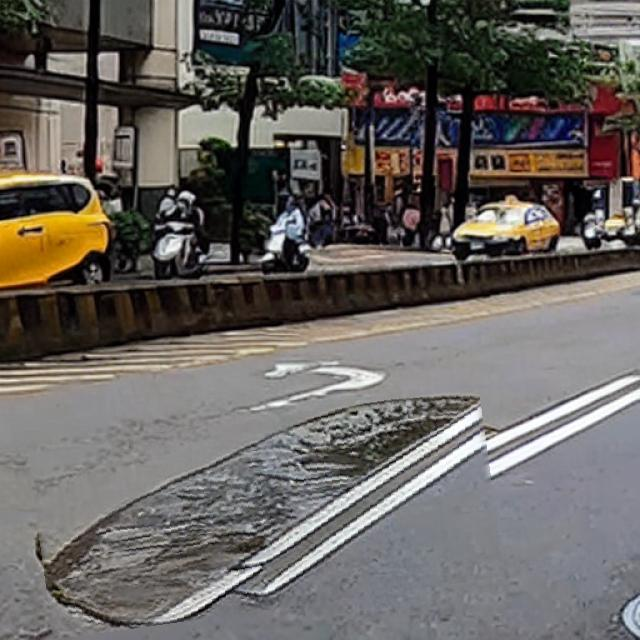puddle: (34, 404, 501, 625)
